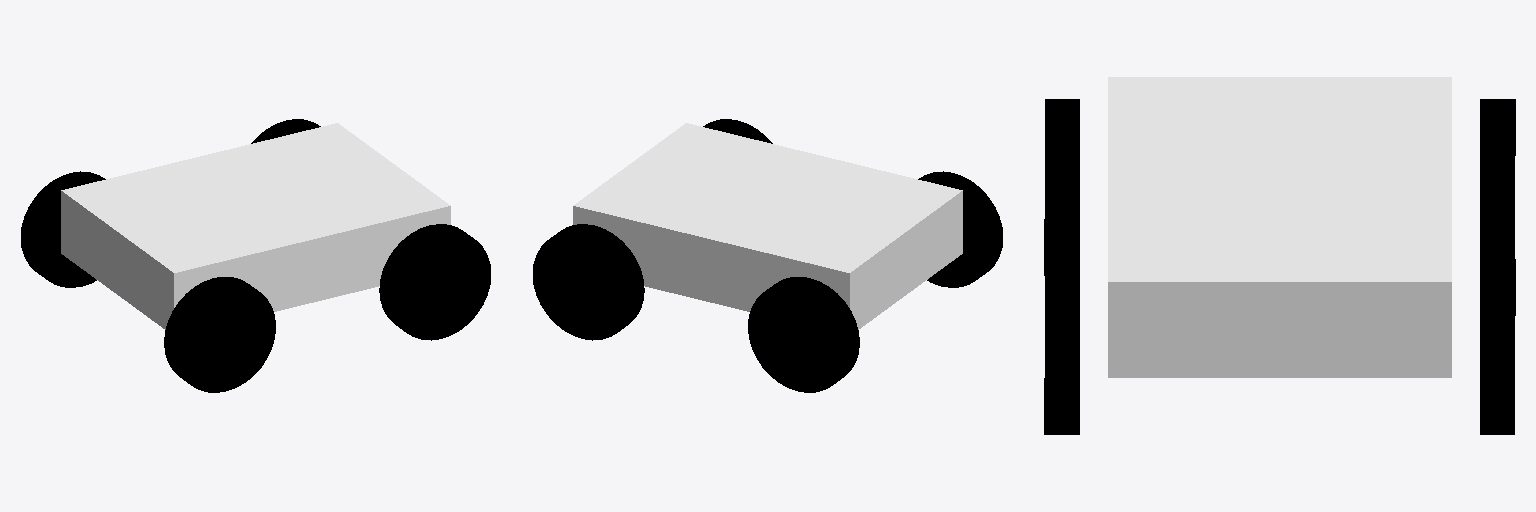
URDF robot description (diode_robot):
<?xml version="1.0" ?>
<robot name="diode_robot">

    <link name="base_link">
        <visual>
            <origin xyz=" 0 0 0.15" rpy="0 0 0" />
            <geometry>
                <box size="0.55 0.39 0.120"/>
            </geometry>
            <material name="white">
                <color rgba="1 1 1 1"/>
            </material>
        </visual>
    </link>   

    <joint name="left_wheel_joint" type="continuous">
        <origin xyz="-0.214 0.247 0.1" rpy="1.57 0 0"/>
        <parent link="base_link"/>
        <child link="left_wheel_link"/>
        <axis xyz="0 1 0"/>
    </joint>

    <link name="left_wheel_link">
        <visual>
            <origin xyz="0 0 0" rpy="0 0 0" />
            <geometry>
                <cylinder radius="0.1" length = "0.04"/>
            </geometry>
            <material name="black">
                <color rgba="0 0 0 1"/>
            </material>
        </visual>
    </link>

    <joint name="right_wheel_joint" type="continuous">
        <origin xyz="-0.214 -0.247 0.1" rpy="1.57 0 0"/>
        <parent link="base_link"/>
        <child link="right_wheel_link"/>
        <axis xyz="0 1 0"/>
    </joint>

    <link name="right_wheel_link">
        <visual>
            <origin xyz="0 0 0" rpy="0 0 0" />
            <geometry>
                <cylinder radius="0.1" length = "0.04"/>
            </geometry>
            <material name="black">
                <color rgba="0 0 0 1"/>
            </material>
        </visual>
    </link>

      <joint name="left_front_joint" type="continuous">
        <origin xyz="0.214 0.247 0.1" rpy="1.57 0 0"/>
        <parent link="base_link"/>
        <child link="left_front_link"/>
        <axis xyz="0 1 0"/>
    </joint>

    <link name="left_front_link">
        <visual>
            <origin xyz="0 0 0" rpy="0 0 0" />
            <geometry>
                <cylinder radius="0.1" length = "0.04"/>
            </geometry>
            <material name="black">
                <color rgba="0 0 0 1"/>
            </material>
        </visual>
    </link>

    <joint name="right_front_joint" type="continuous">
        <origin xyz="0.214 -0.247 0.1" rpy="1.57 0 0"/>
        <parent link="base_link"/>
        <child link="right_front_link"/>
        <axis xyz="0 1 0"/>
    </joint>

    <link name="right_front_link">
        <visual>
            <origin xyz="0 0 0" rpy="0 0 0" />
            <geometry>
                <cylinder radius="0.1" length = "0.04"/>
            </geometry>
            <material name="black">
                <color rgba="0 0 0 1"/>
            </material>
        </visual>
    </link>


</robot>

--- Facts derived from the render (not from the file) ---
3 views of the same robot in one strip: view 1: azimuth 30°, elevation 25°; view 2: azimuth 150°, elevation 25°; view 3: azimuth 270°, elevation 25° (orthographic).
Robot: diode_robot — 5 links, 4 joints (4 continuous); root link base_link; default pose: every joint at zero.
Links seen in each view (by area): view 1: base_link, right_wheel_link, right_front_link, left_wheel_link, left_front_link; view 2: base_link, left_front_link, left_wheel_link, right_wheel_link, right_front_link; view 3: base_link, left_front_link, right_front_link, left_wheel_link, right_wheel_link.
Link boxes in pixels (bbox=[...]): base_link: bbox=[61, 123, 450, 329]; right_wheel_link: bbox=[164, 277, 275, 392]; right_front_link: bbox=[379, 224, 490, 340]; left_wheel_link: bbox=[21, 171, 105, 287]; left_front_link: bbox=[251, 119, 320, 143]; base_link: bbox=[573, 123, 962, 329]; left_front_link: bbox=[533, 224, 644, 340]; left_wheel_link: bbox=[748, 277, 859, 392]; right_wheel_link: bbox=[918, 171, 1002, 287]; right_front_link: bbox=[703, 119, 772, 143]; base_link: bbox=[1108, 77, 1451, 377]; left_front_link: bbox=[1480, 259, 1515, 434]; right_front_link: bbox=[1044, 259, 1079, 434]; left_wheel_link: bbox=[1480, 99, 1515, 258]; right_wheel_link: bbox=[1044, 99, 1079, 275].
Bounding box of the posed robot: 0.628 × 0.5342 × 0.21 m (x, y, z).
Geometry: primitives only (box / cylinder / sphere), no mesh files.